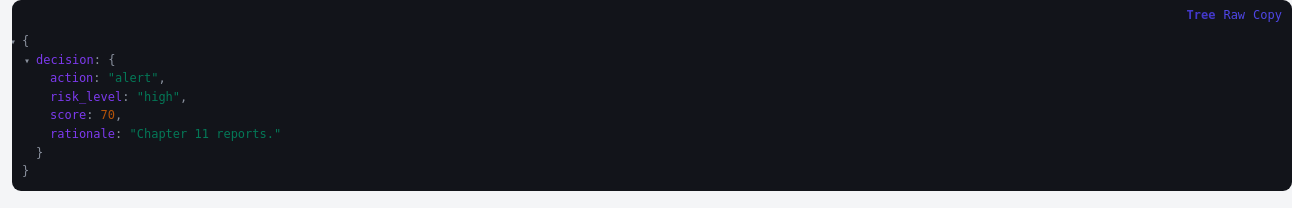
it: a node output reads as a tree, not an escaped string › copies the unfolded JSON
Step 1. Click the button "Copy" → click(1268, 15), box x1=1253 y1=6 x2=1282 y2=24
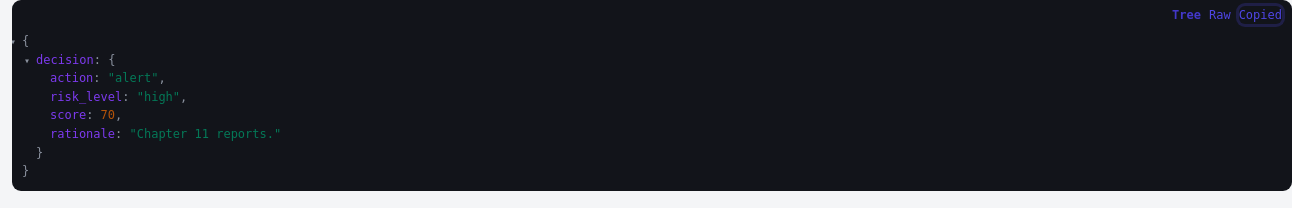
Expected: the button "Copied" is shown, x1=1239 y1=6 x2=1282 y2=24
